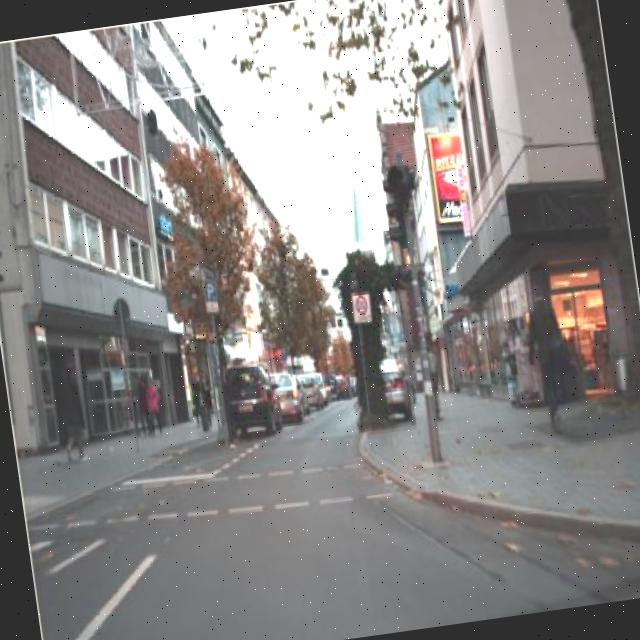Ograniczenie predkosci do 20: (352, 290, 372, 316)
